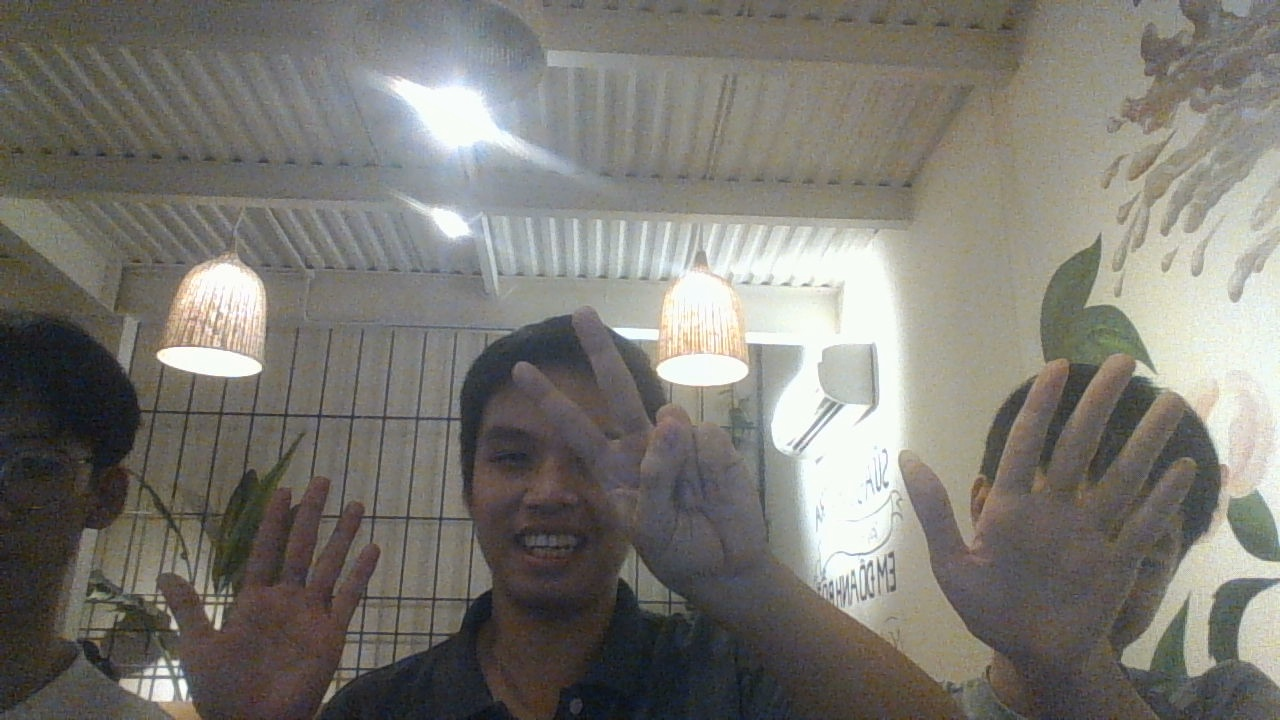check: (898, 350, 1197, 678), (165, 476, 380, 720)
wait: (511, 307, 774, 593)
